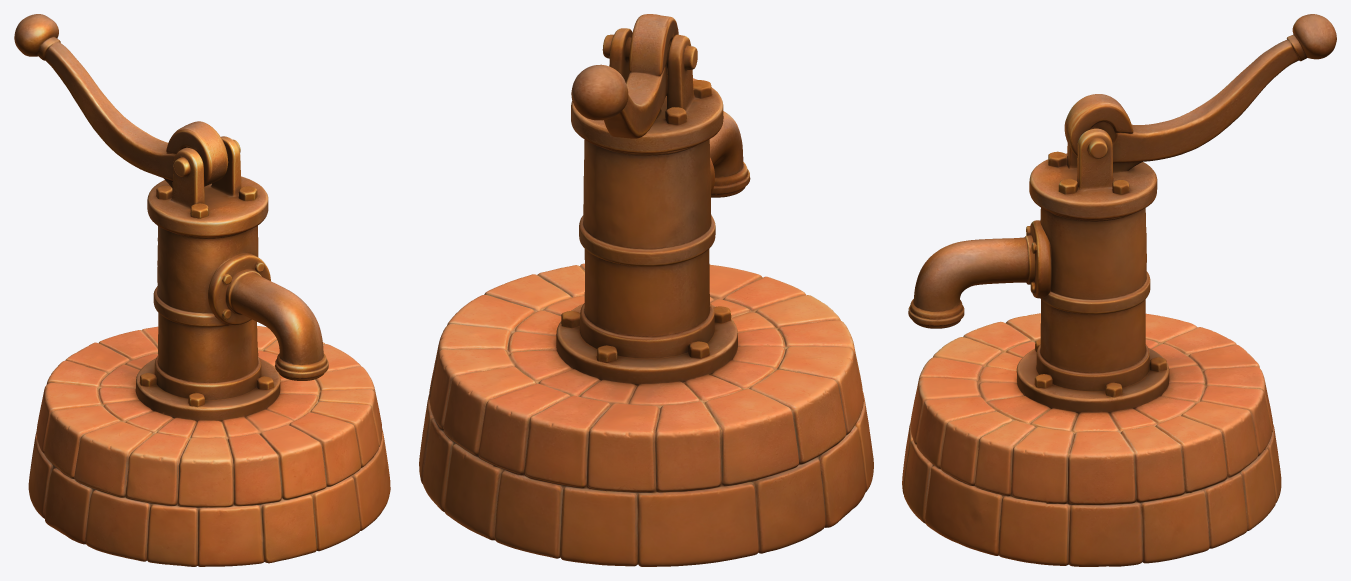
Rendered from pump-well.glb.
3 renders of one model, left to right at view 1: azimuth 30°, elevation 25°; view 2: azimuth 150°, elevation 25°; view 3: azimuth 270°, elevation 25°, orthographic. The views are drawn at different scales.
Visible parts, largest first — view 1: tripo_node_ef61d030-d52b-4680-9694-713c9f840c20; view 2: tripo_node_ef61d030-d52b-4680-9694-713c9f840c20; view 3: tripo_node_ef61d030-d52b-4680-9694-713c9f840c20.
Boxes of the visible parts, x1,y1,x2,y2 form: tripo_node_ef61d030-d52b-4680-9694-713c9f840c20: (14,14,390,566); tripo_node_ef61d030-d52b-4680-9694-713c9f840c20: (419,14,873,566); tripo_node_ef61d030-d52b-4680-9694-713c9f840c20: (902,14,1336,566).
Bounding box in the file's own units: 0.7878 × 1 × 0.8988.
1 material, 1 textured.
